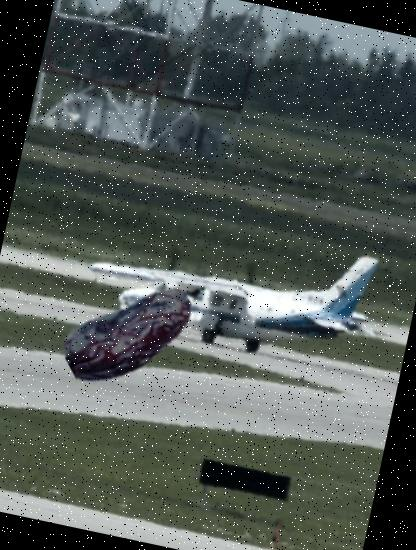Dates: (50, 256, 212, 418)
